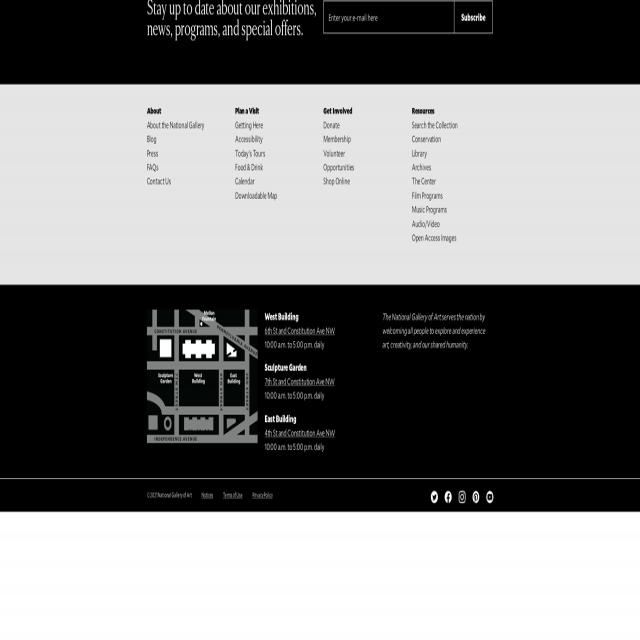button: (146, 310, 258, 443), (454, 0, 492, 33), (430, 491, 438, 504), (444, 491, 452, 504), (458, 491, 466, 504), (472, 491, 480, 504), (486, 491, 494, 504)
field: (324, 0, 454, 33)
